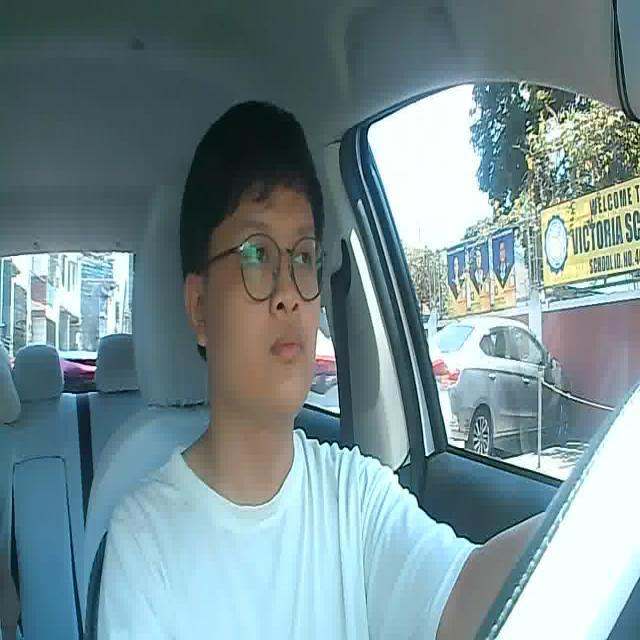Attentive: (181, 96, 323, 411)
Eye-Open: (289, 244, 316, 274), (244, 243, 271, 272)
Normal: (269, 331, 309, 362)
